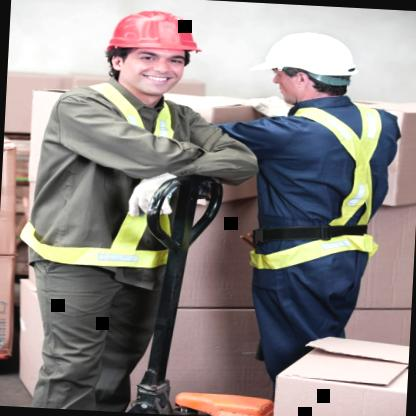helmet: (238, 23, 374, 119), (94, 0, 216, 101)
